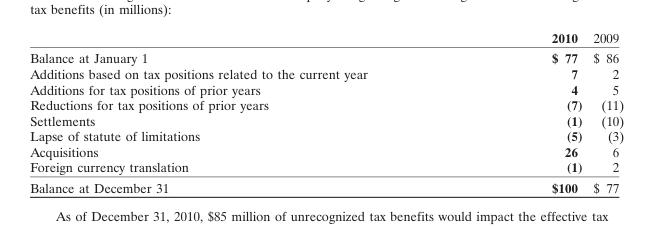table: (29, 29, 623, 195)
table column: (29, 29, 459, 195), (459, 29, 587, 195), (587, 29, 623, 195)
table column header: (29, 29, 623, 47)
table row: (29, 176, 623, 195), (29, 29, 623, 47), (29, 47, 623, 65), (29, 158, 623, 176), (29, 65, 623, 81), (29, 96, 623, 112), (29, 127, 623, 143), (29, 81, 623, 96), (29, 112, 623, 127), (29, 143, 623, 158)
